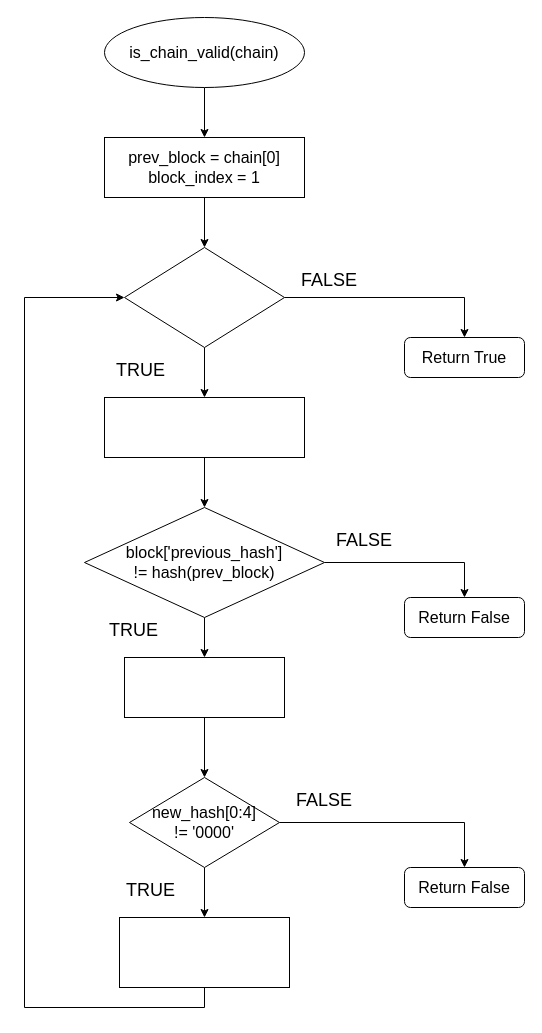
The diagram is 542 pixels wide and 1033 high, and some of its shapes have lost their labels. The centre of each missing label's shape, as x and y in pixels:
block = chain[block_index]: pixel 204 427
block_index < len(chian): pixel 204 297
new_hash = hash(block): pixel 204 687
prev_block = block block_index += 1: pixel 204 952
